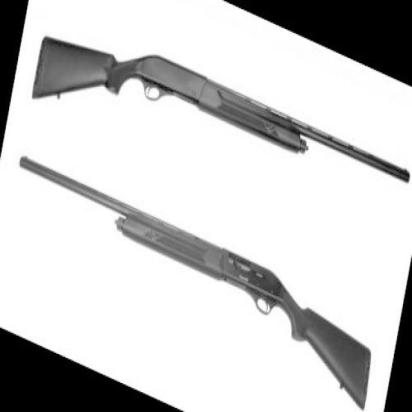Gun: (0, 143, 383, 412), (32, 0, 412, 261)
